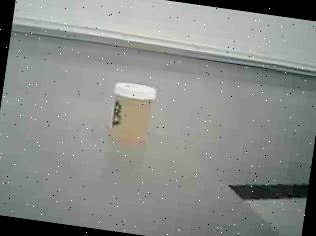Bottle B: (102, 77, 160, 155)
